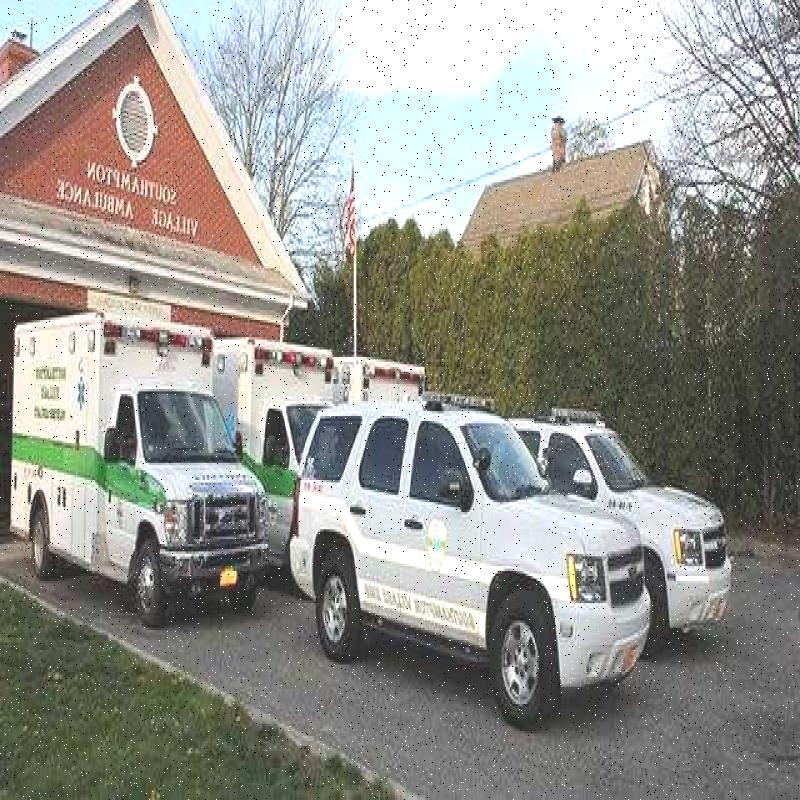AmbulanceSiren: (96, 308, 220, 369), (252, 340, 342, 387), (363, 365, 426, 402)
